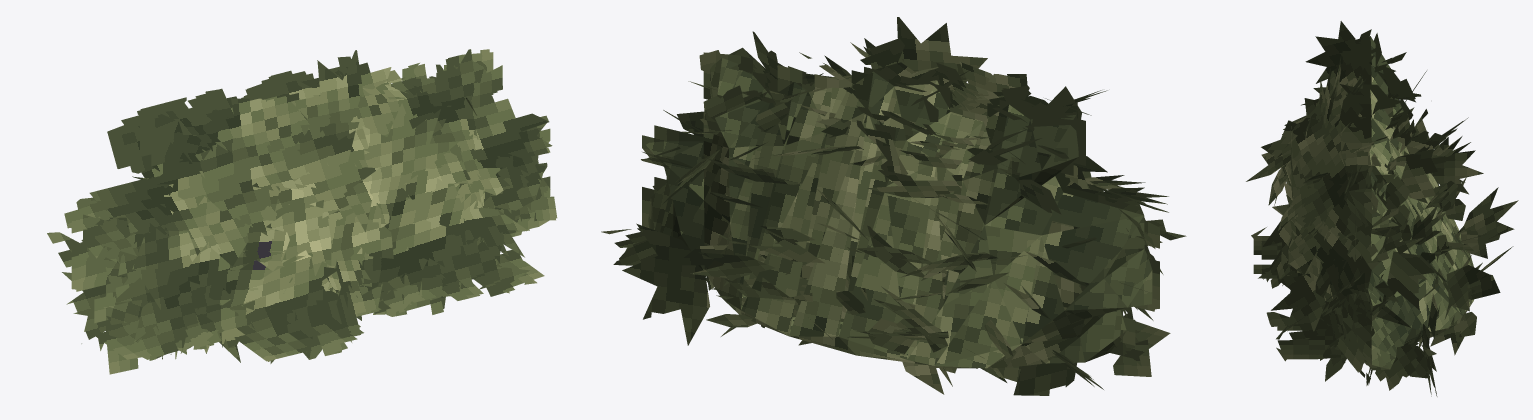
File: leafy_1287_cut_high.glb
3 renders of one model, left to right at view 1: azimuth 30°, elevation 25°; view 2: azimuth 150°, elevation 25°; view 3: azimuth 270°, elevation 25°, orthographic. The views are drawn at different scales.
Parts seen in each view (by area): view 1: leafy_1287_cut_lod0; view 2: leafy_1287_cut_lod0; view 3: leafy_1287_cut_lod0.
Part boxes in pixels (x1,y1,x2,y2): leafy_1287_cut_lod0: [47, 49, 557, 374]; leafy_1287_cut_lod0: [601, 17, 1186, 395]; leafy_1287_cut_lod0: [1246, 21, 1518, 396].
Size of the model in its own units: 0.9732 by 0.5458 by 0.5146.
1 material, 1 textured.
